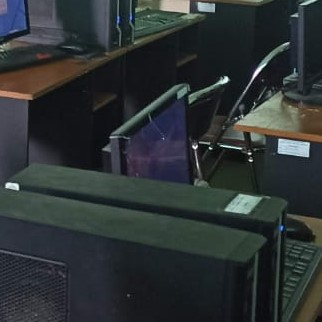monitor: (108, 83, 195, 184), (296, 0, 322, 96), (0, 0, 31, 45)
